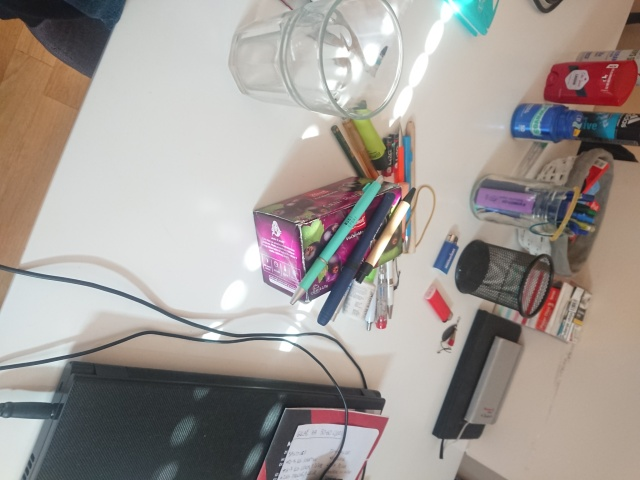Franck Black Currant Tea 60g: (250, 175, 406, 305)
